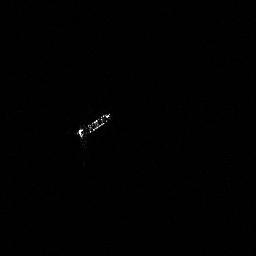ship: (73, 109, 114, 143)
